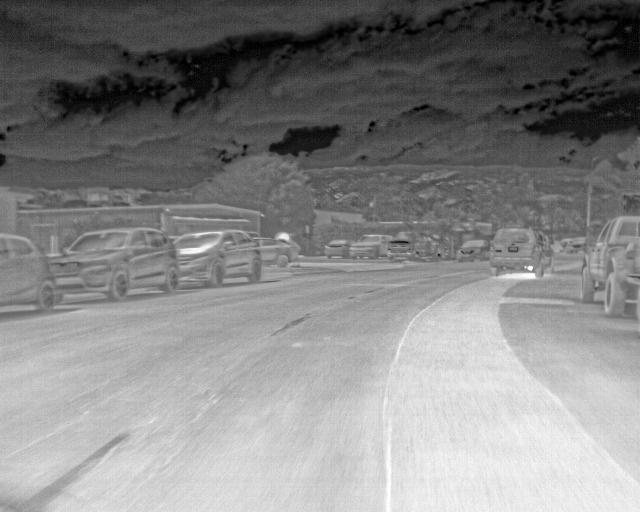car: (50, 226, 180, 303), (576, 213, 639, 319), (178, 228, 259, 289), (0, 235, 60, 314), (484, 226, 555, 274), (255, 235, 298, 269), (348, 232, 387, 262), (384, 235, 411, 261), (459, 241, 489, 264), (322, 238, 350, 259), (568, 235, 585, 254)
